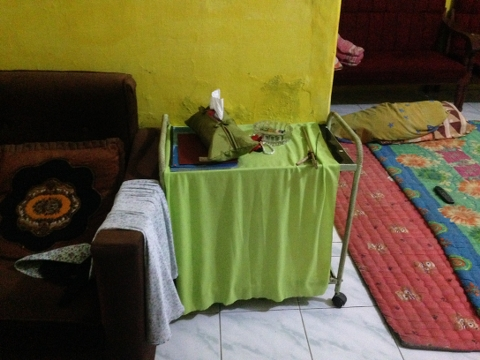meja: (159, 111, 363, 308)
